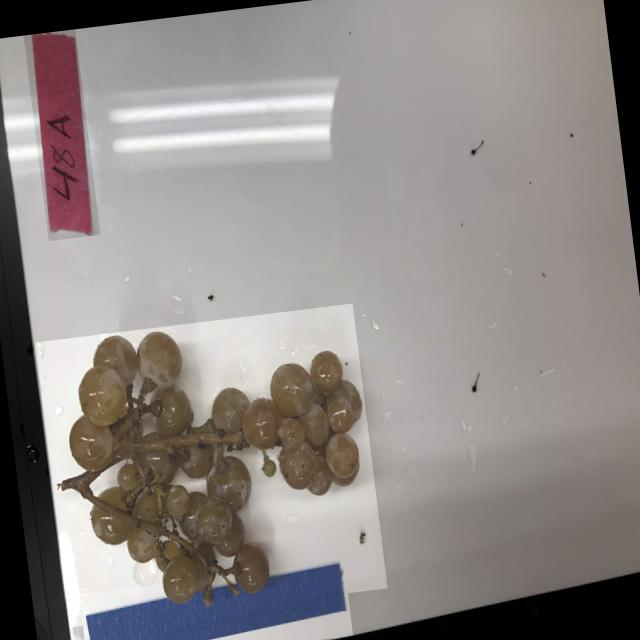grape_cluster: (34, 302, 387, 626)
index: (23, 28, 100, 240)
measure_label: (78, 560, 352, 640)
